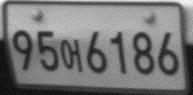1: (108, 30, 127, 75)
5: (36, 30, 59, 71)
6: (156, 30, 180, 76), (86, 31, 107, 73)
8: (128, 31, 155, 74)
9: (12, 29, 33, 71)
어: (59, 38, 83, 74)
